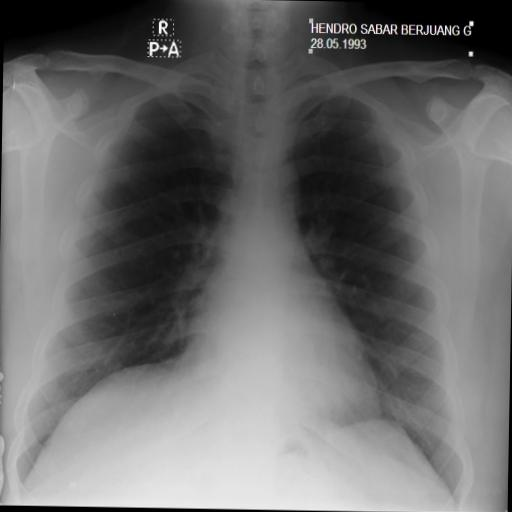normal: (10, 24, 480, 502)
